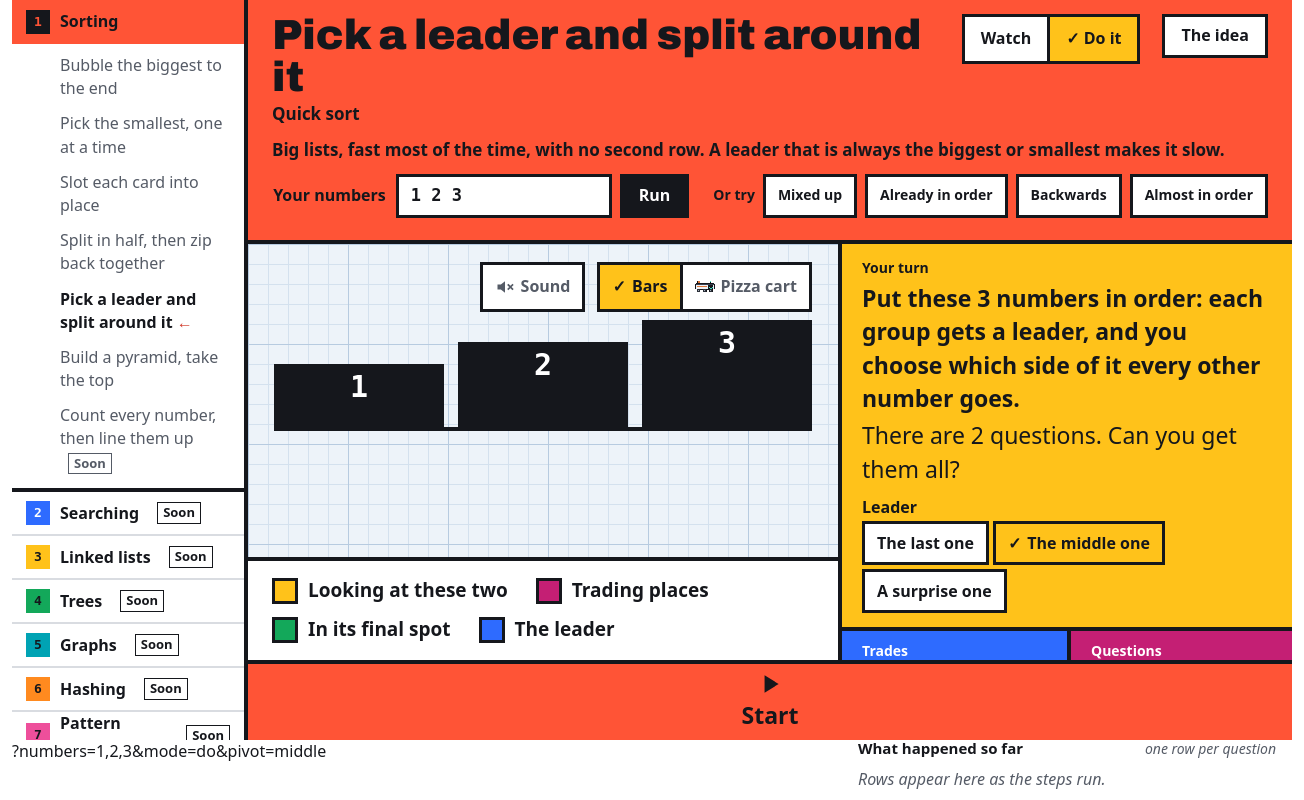
Test: quick sort: picking the leader › Do it: no suggestion when the chosen rule is already the fewest
Click the button "Start".
click(770, 702)  # box x1=248 y1=664 x2=1292 y2=740
Wait 6000 ms
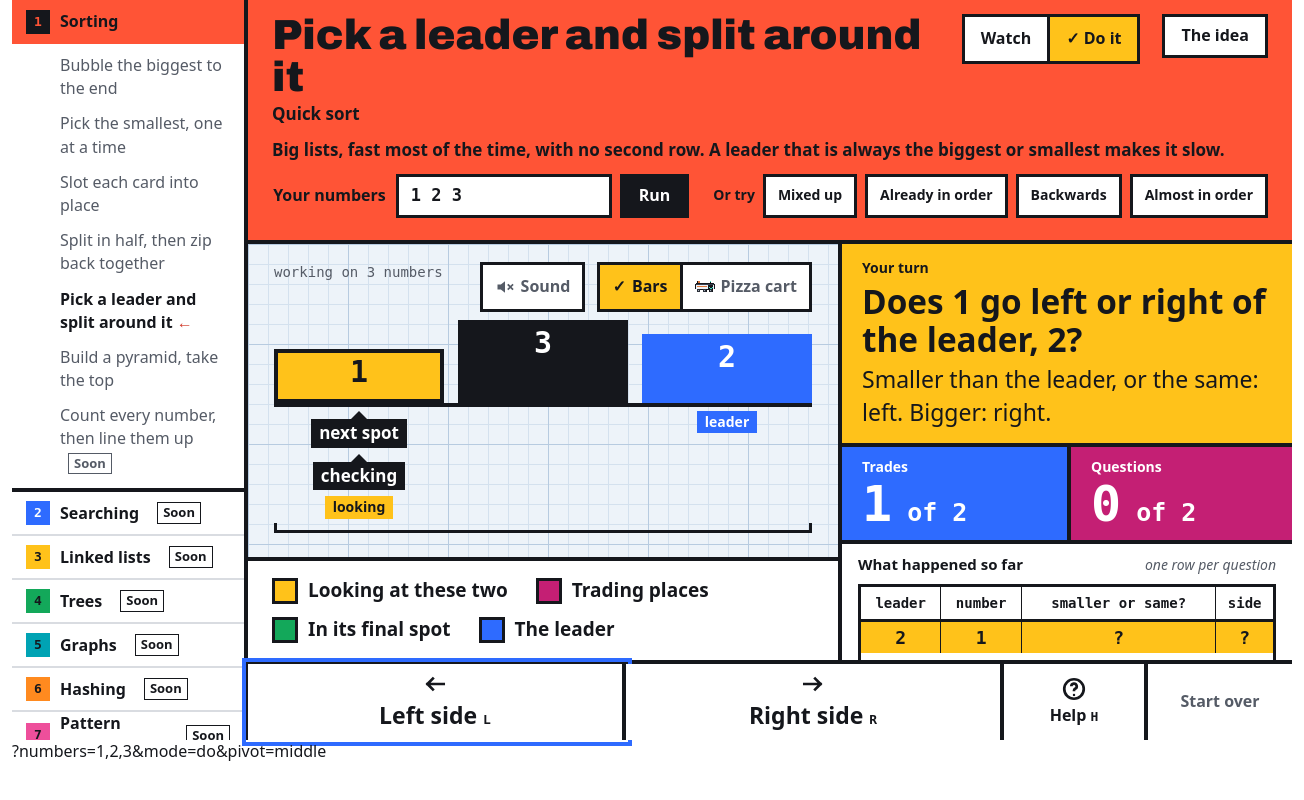
Type keys "l"
Wait 2000 ms
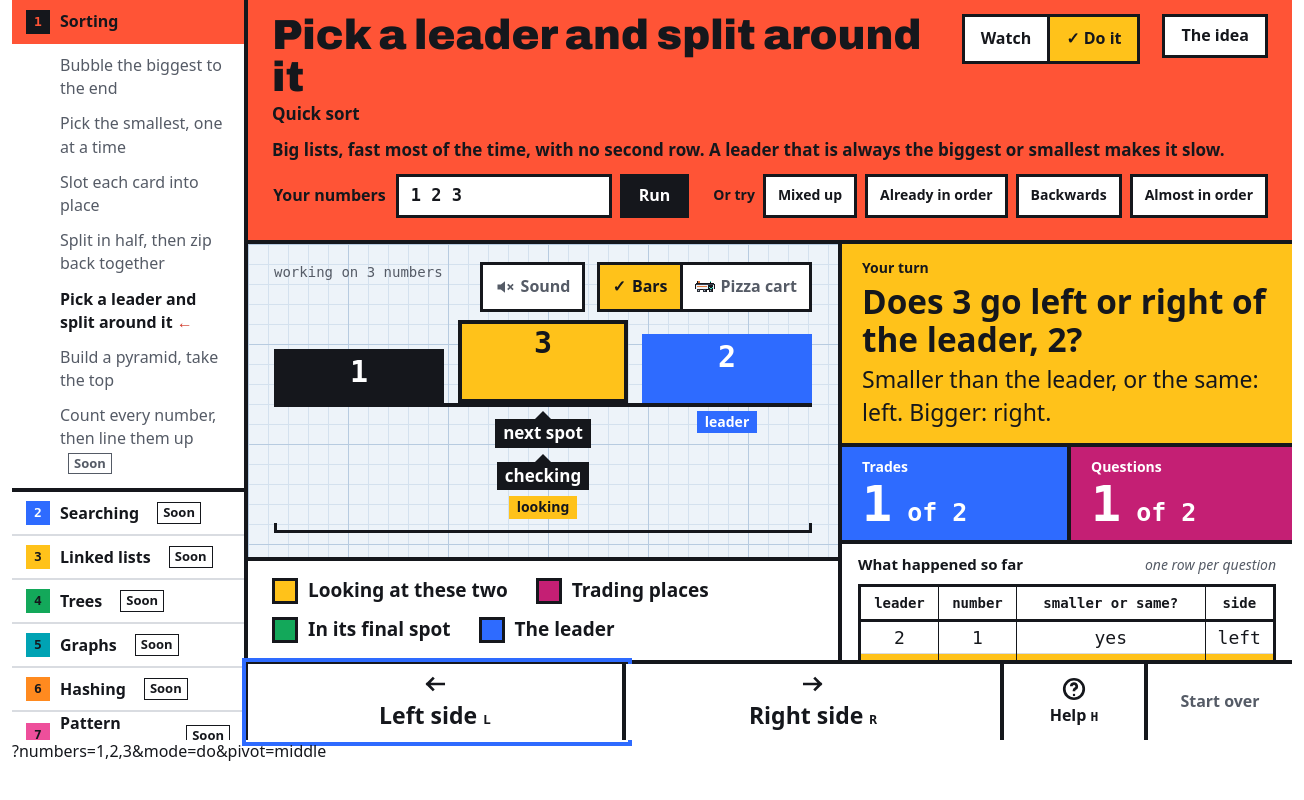
Type keys "r"
Wait 8000 ms
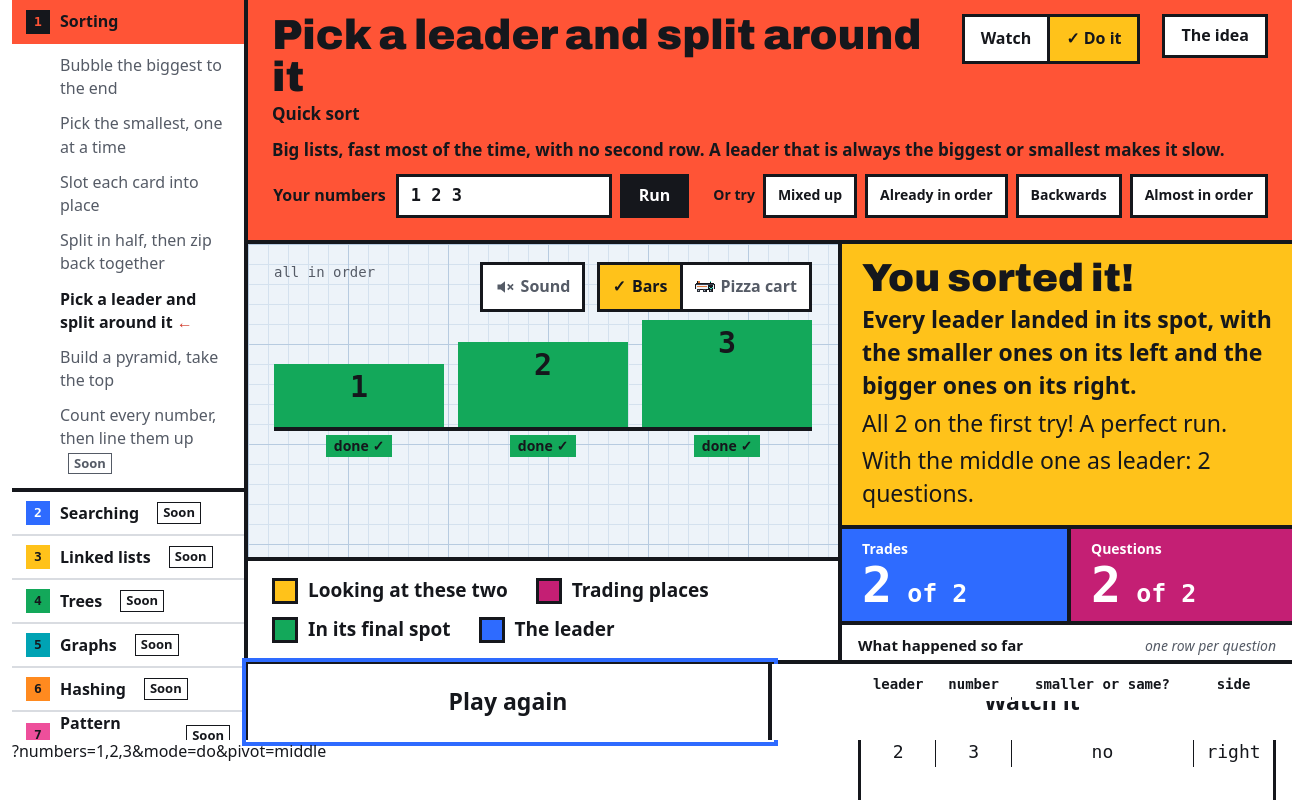
Expected: the element with class "do-it-panel" does not show "Try", x1=862 y1=407 x2=1227 y2=439
Result: the element with class "do-it-panel" shows "With the middle one as leader: 2 questions." at x1=862 y1=444 x2=1211 y2=509
